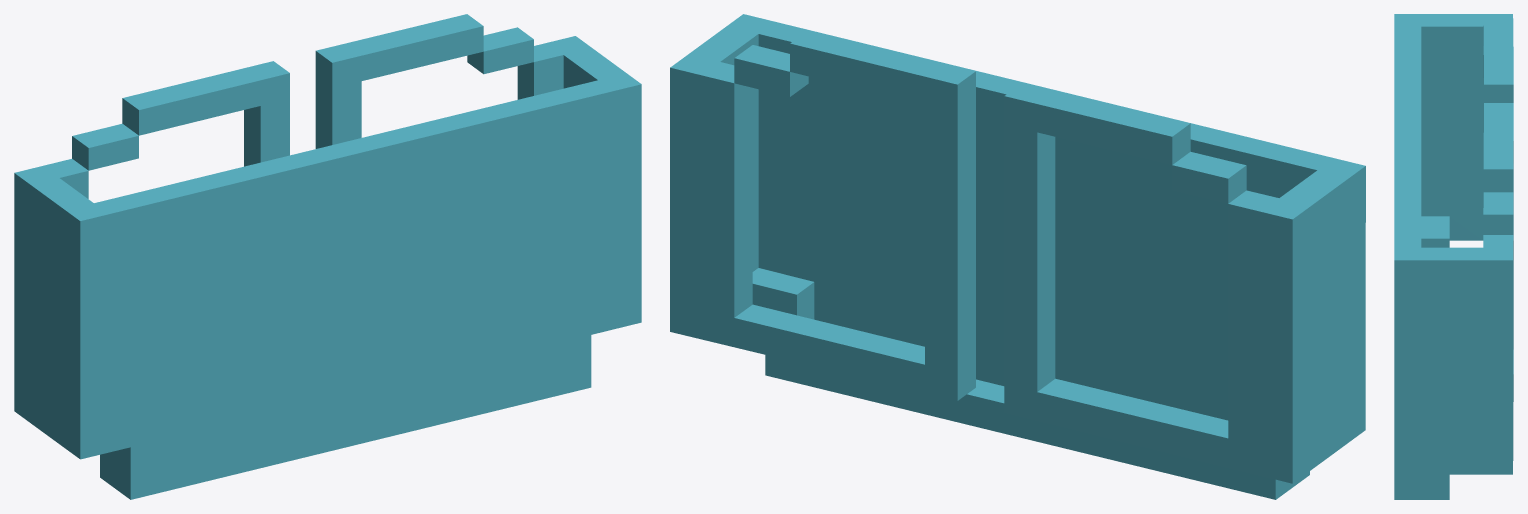
File: Flat_mask.fbx
3 views of the same model, side by side, from view 1: azimuth 30°, elevation 25°; view 2: azimuth 150°, elevation 25°; view 3: azimuth 270°, elevation 25° (orthographic). The views are drawn at different scales.
Parts seen in each view (by area): view 1: flat_mask; view 2: flat_mask; view 3: flat_mask.
Boxes of the visible parts, x1,y1,x2,y2 form: flat_mask: (14,14,641,499); flat_mask: (670,14,1365,499); flat_mask: (1394,14,1513,499).
Bounding box in the file's own units: 1.11 × 0.6432 × 0.2283.
